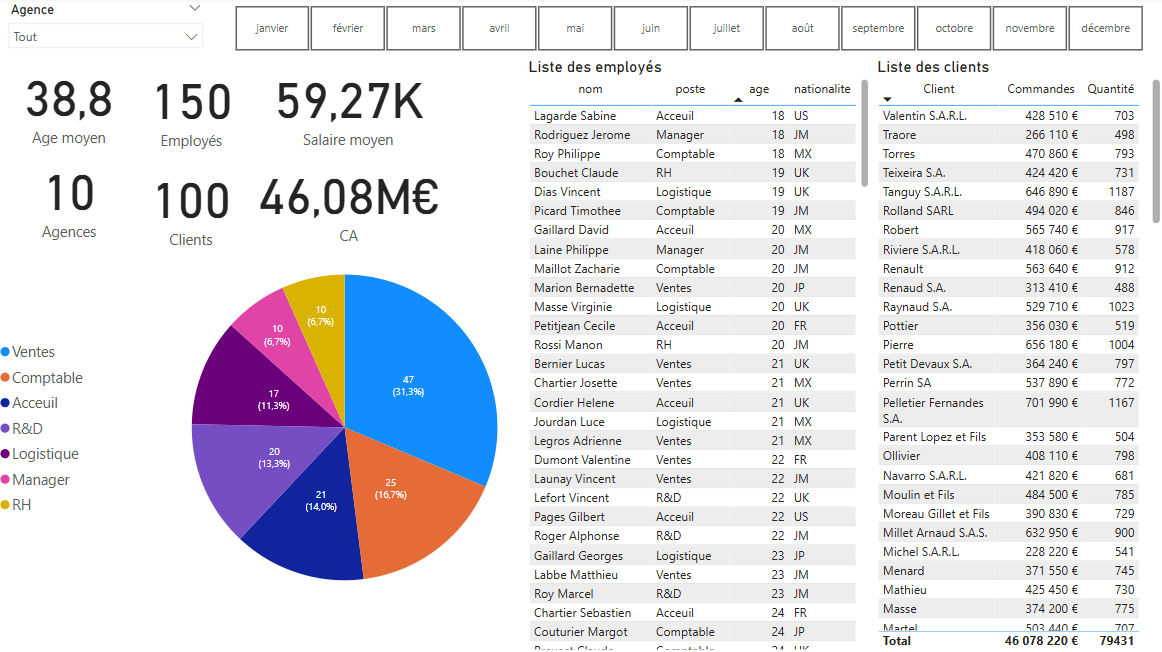

This screenshot's page, from the dashboard's own definition file:
{"tool":"powerbi","page":{"name":"RH","canvas":[1280,720],"ordinal":1},"visuals":[{"type":"card","fields":{"Values":["employes.age"]},"box":[0,61.7,153.7,108.4],"z":0},{"type":"card","fields":{"Values":["employes.id_employe"]},"box":[134.5,65.9,153.7,107],"z":1000},{"type":"card","fields":{"Values":["employes.salaire"]},"box":[288.2,63.1,190.7,108.4],"z":2000},{"type":"card","fields":{"Values":["ventes.client_txt"]},"box":[149.7,172.5,122.6,109.8],"z":3000},{"type":"card","fields":{"Values":["agences.id_agence"]},"box":[34.2,163.9,85.5,111.2],"z":4000},{"type":"card","fields":{"Values":["ventes.somme_txt"]},"box":[278,171,211,102.6],"z":5000},{"type":"pieChart","title":"Répartition des postes","fields":{"Category":["employes.poste"],"Y":["employes.id_employe"]},"box":[0,219.4,658.2,501.3],"z":6000},{"type":"tableEx","title":"Liste des employés","fields":{"Values":["employes.nom","employes.poste","employes.age","employes.nationalite"]},"box":[576.3,65.3,383.3,655.4],"z":7000},{"type":"slicer","fields":{"Values":["agences.nomVilleAgence"]},"box":[0,0,233.8,65.6],"z":8000},{"type":"slicer","fields":{"Values":["calendrier.Date.Variation.Hiérarchie de dates.Mois"]},"box":[233.8,2.9,1046.2,62.7],"z":9000},{"type":"tableEx","title":"Liste des clients","fields":{"Values":["clients.nom","ventes.somme","ventes.quantite"]},"box":[959.5,65.3,320.8,655.4],"z":10000}]}

Visuals, with their boxes in screenshot pixels (x1, y1, x2, y2), scaled from the page's 1280x720 canvas onto the 1162x652 screenshot:
card - employes.age: (x1=0, y1=56, x2=140, y2=154)
card - employes.id_employe: (x1=122, y1=60, x2=262, y2=157)
card - employes.salaire: (x1=262, y1=57, x2=435, y2=155)
card - ventes.client_txt: (x1=136, y1=156, x2=247, y2=256)
card - agences.id_agence: (x1=31, y1=148, x2=109, y2=249)
card - ventes.somme_txt: (x1=252, y1=155, x2=444, y2=248)
"Répartition des postes" pieChart: (x1=0, y1=199, x2=598, y2=651)
"Liste des employés" tableEx: (x1=523, y1=59, x2=871, y2=651)
slicer - agences.nomVilleAgence: (x1=0, y1=0, x2=212, y2=59)
slicer - calendrier.Date.Variation.Hiérarchie de dates.Mois: (x1=212, y1=3, x2=1161, y2=59)
"Liste des clients" tableEx: (x1=871, y1=59, x2=1161, y2=651)
